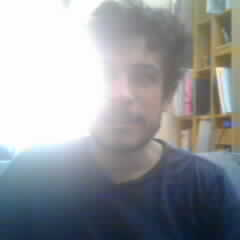without_mask: (89, 35, 163, 150)
